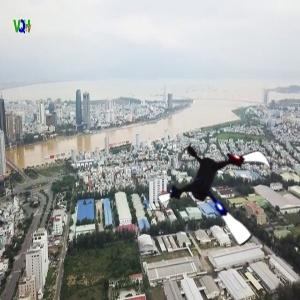drone: (157, 130, 282, 255)
